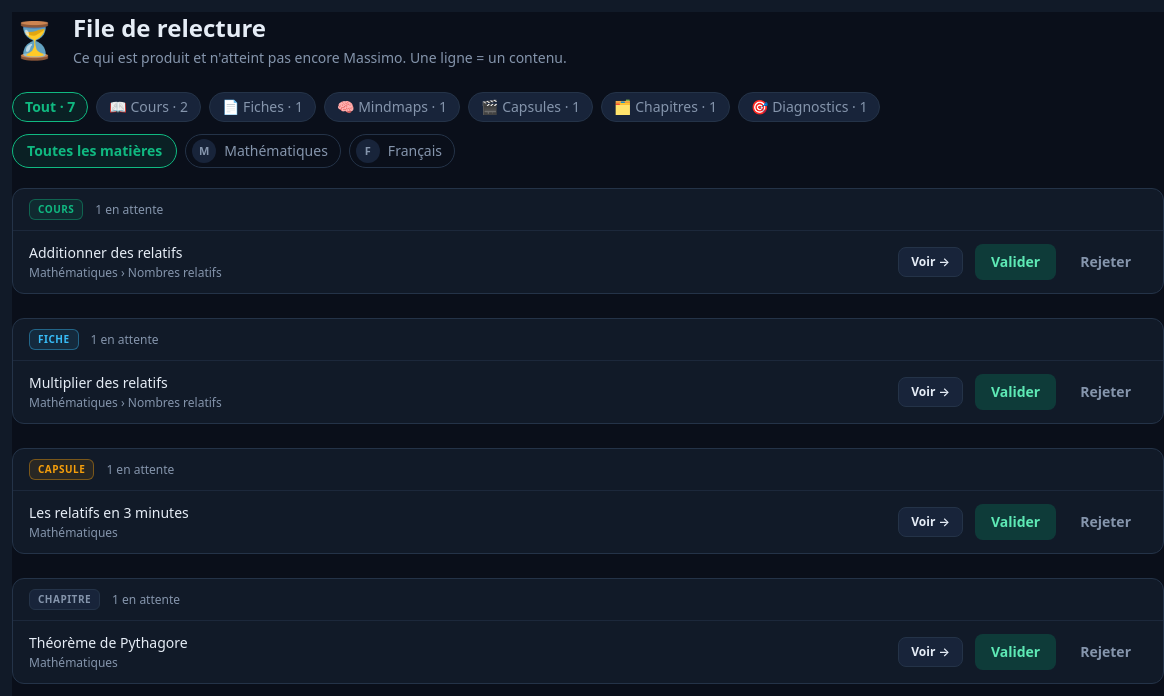
RelecturePage › rétablit la ligne et dit pourquoi quand le verdict échoue
Expected: the text "Multiplier des relatifs" is shown, [29,373,168,392]
Click the button "Valider" in the row of "Multiplier des relatifs".
click(1016, 392)  # box [975,374,1056,410]
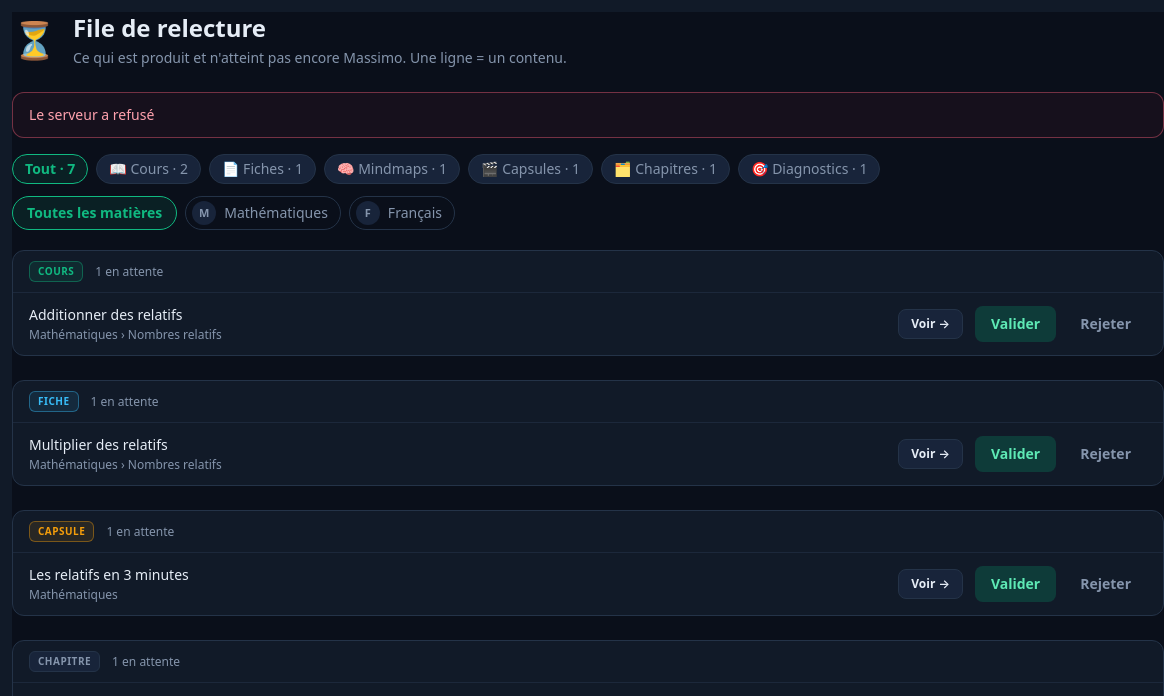
Expected: the text "Multiplier des relatifs" is shown, [29,435,168,454]
Result: the text "Le serveur a refusé" is shown at [12,92,1163,138]
